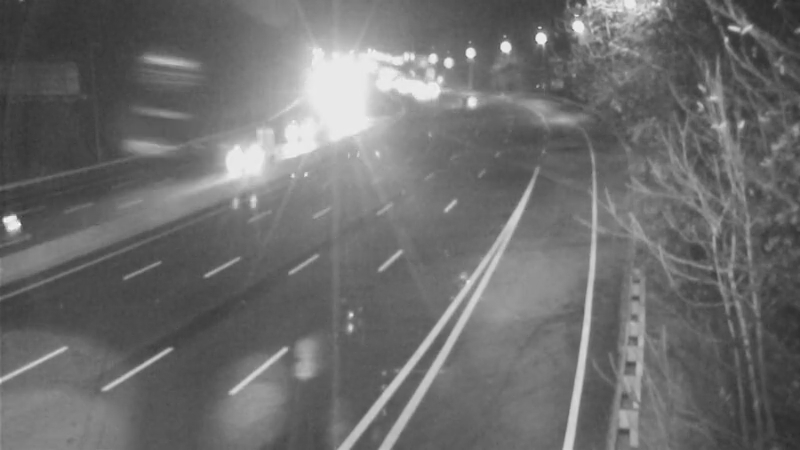vehicle: (205, 116, 285, 196), (1, 188, 70, 268), (434, 73, 484, 123), (276, 104, 326, 154)
